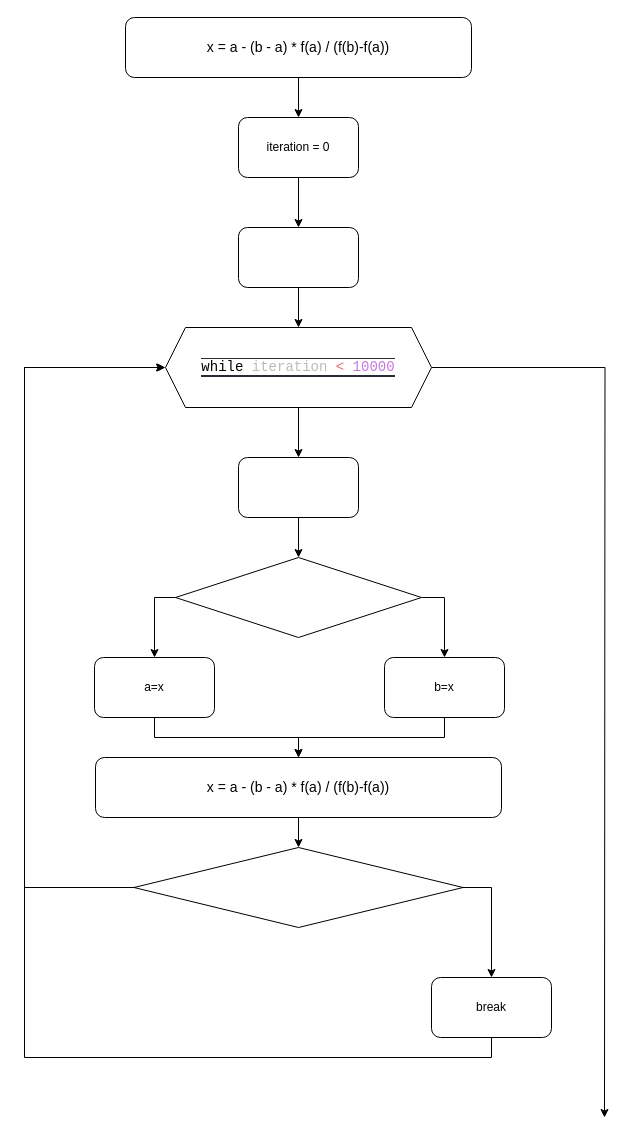
This 631x1143 diagram has some shape labels left out. The shapes that lost their labels are listed below. From the top down, each one's centre as x and y in pixels, then its label:
At [298,257]: "last_x = x".
At [298,487]: "iteration+1".
At [298,597]: "f(a) * f(x) < 0".
At [298,887]: "|f(x)|<=epsilon и |x-last_x|<=epsilon".
